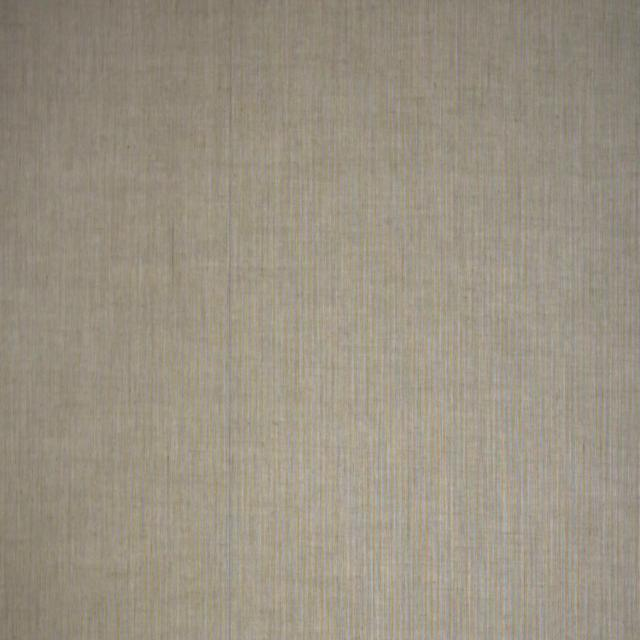dirty: (392, 158, 399, 172)
